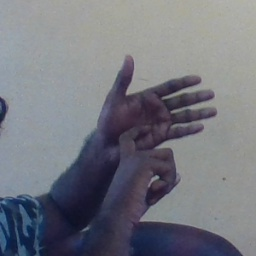R: (84, 56, 220, 207)
